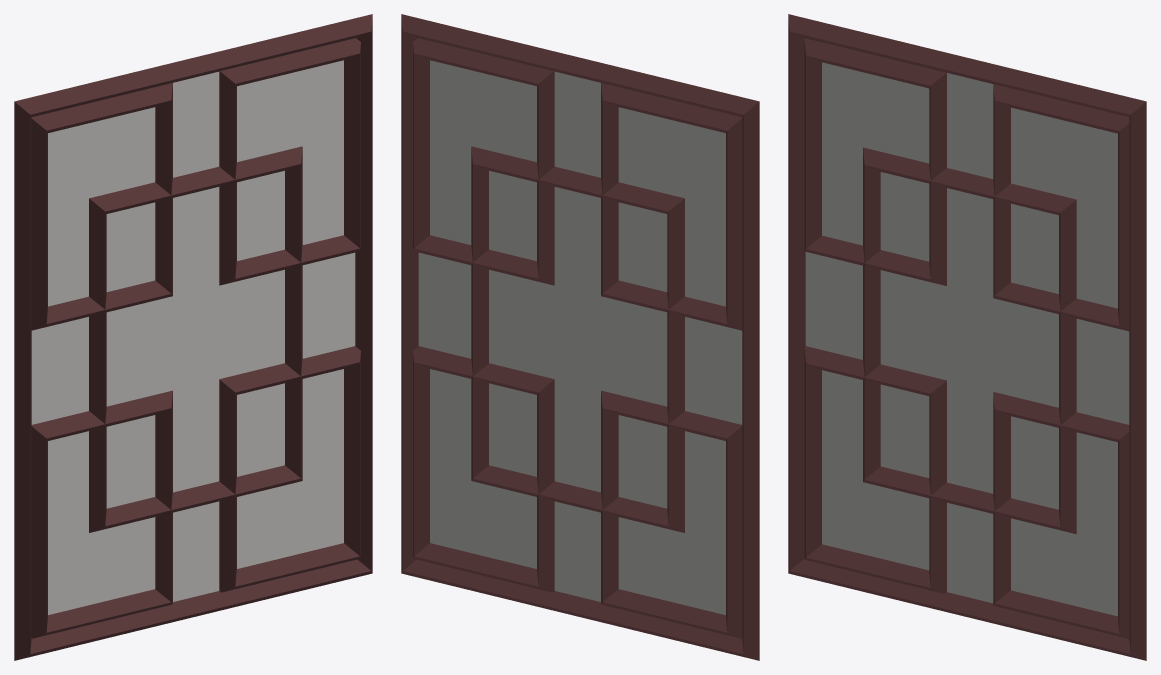
The model's file is SM_Env_Window_22.fbx.
3 views of the same model, side by side, from view 1: azimuth 30°, elevation 25°; view 2: azimuth 150°, elevation 25°; view 3: azimuth 330°, elevation 25° (orthographic).
Parts seen in each view (by area): view 1: SM_Env_Window_22; view 2: SM_Env_Window_22; view 3: SM_Env_Window_22.
Part boxes in pixels (box(x1,y1,x2,y2)): SM_Env_Window_22: box(14, 14, 372, 660); SM_Env_Window_22: box(401, 14, 759, 660); SM_Env_Window_22: box(788, 14, 1146, 660).
Size of the model in its own units: 67.37 by 100 by 4.79.
1 material, 1 textured.
